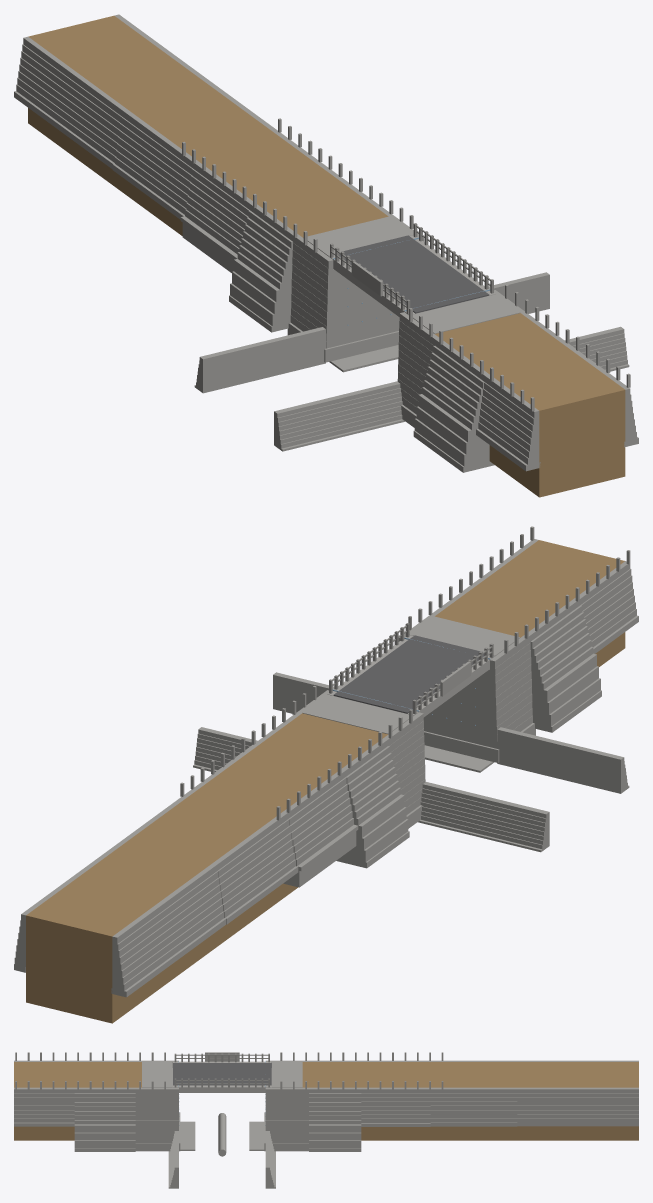
The model's file is bridge_model.glb.
3 renders of one model, top to bottom at view 1: azimuth 30°, elevation 25°; view 2: azimuth 150°, elevation 25°; view 3: azimuth 270°, elevation 25°, orthographic. The views are drawn at different scales.
Parts seen in each view (by area): view 1: Concrete, Earth, Asphalt, Handrails, Deck; view 2: Concrete, Earth, Asphalt, Handrails, Deck; view 3: Concrete, Earth, Asphalt, Handrails, Deck.
Boxes of the visible parts, x1,y1,x2,y2 form: Concrete: (14, 14, 638, 472); Earth: (28, 15, 625, 497); Asphalt: (339, 235, 489, 313); Handrails: (330, 223, 493, 313); Deck: (328, 235, 495, 316); Concrete: (14, 526, 638, 997); Earth: (26, 540, 625, 1023); Asphalt: (333, 635, 484, 713); Handrails: (329, 623, 493, 713); Deck: (327, 635, 494, 717); Concrete: (14, 1052, 638, 1188); Earth: (14, 1062, 638, 1140); Asphalt: (173, 1063, 271, 1085); Handrails: (174, 1053, 269, 1087); Deck: (173, 1061, 271, 1092).
Size of the model in its own units: 28.2 by 10.82 by 72.
